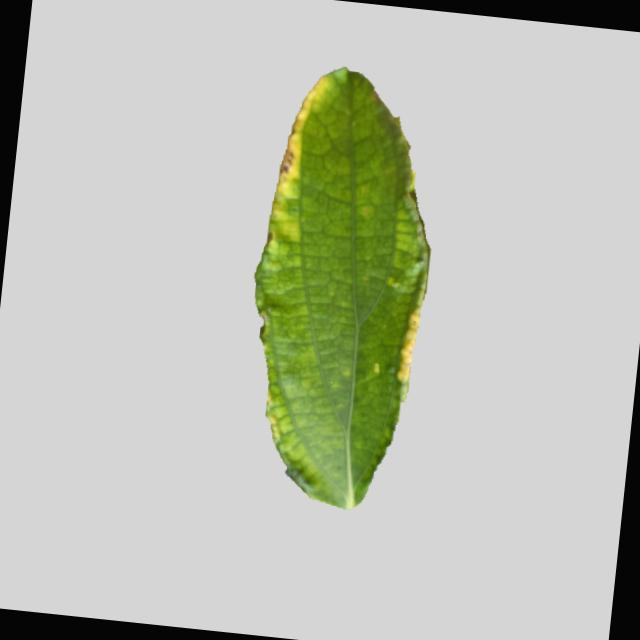yellow-mottle-virus: (225, 58, 456, 508)
